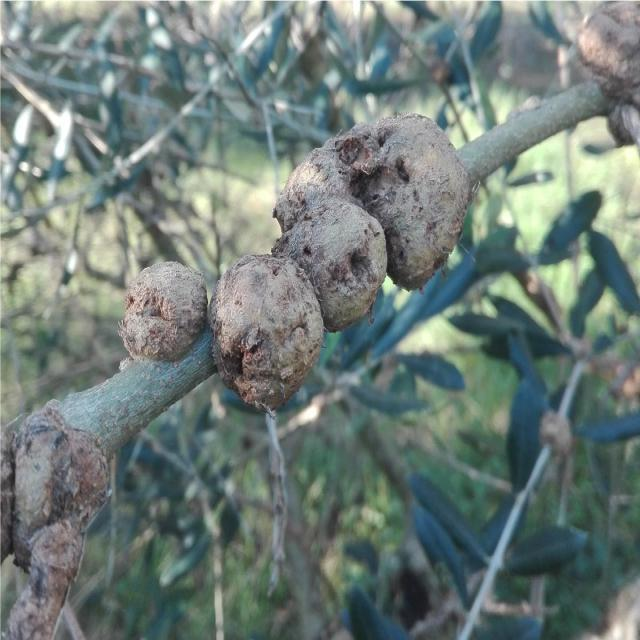Tuberculosis: (210, 113, 472, 417), (0, 400, 109, 639), (119, 262, 208, 360)
